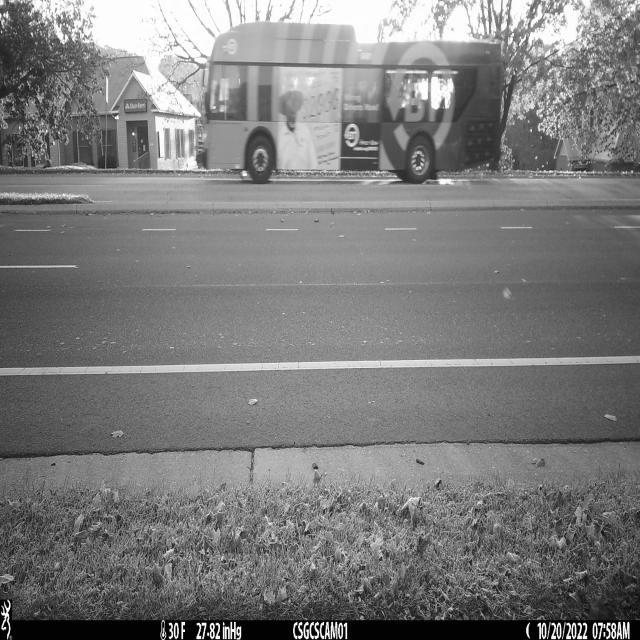Bus: (201, 23, 507, 185)
